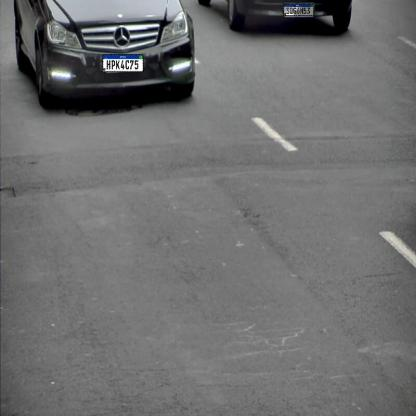PlacaM: (102, 54, 144, 72), (284, 3, 314, 16)
